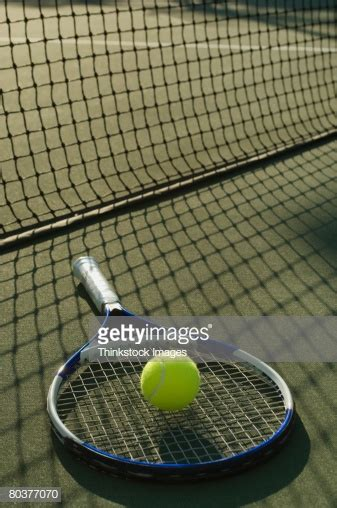tennis_ball: (139, 353, 201, 411)
